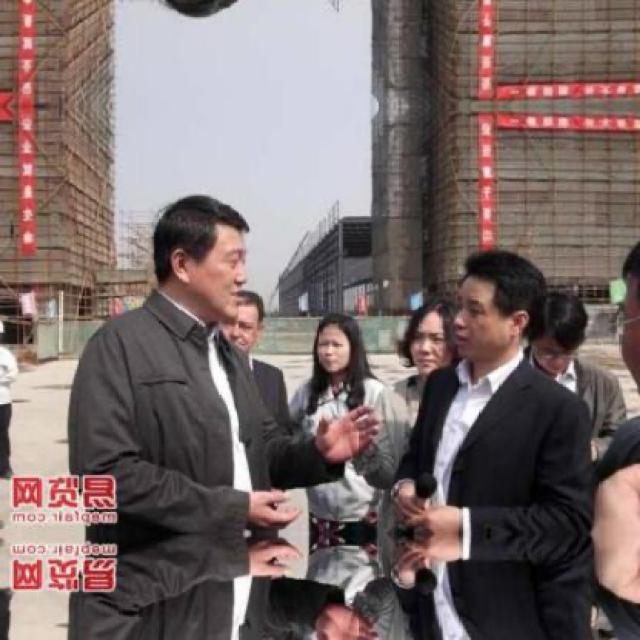sin casco: (111, 199, 280, 345), (390, 259, 553, 363), (192, 268, 297, 339), (307, 299, 364, 359)
